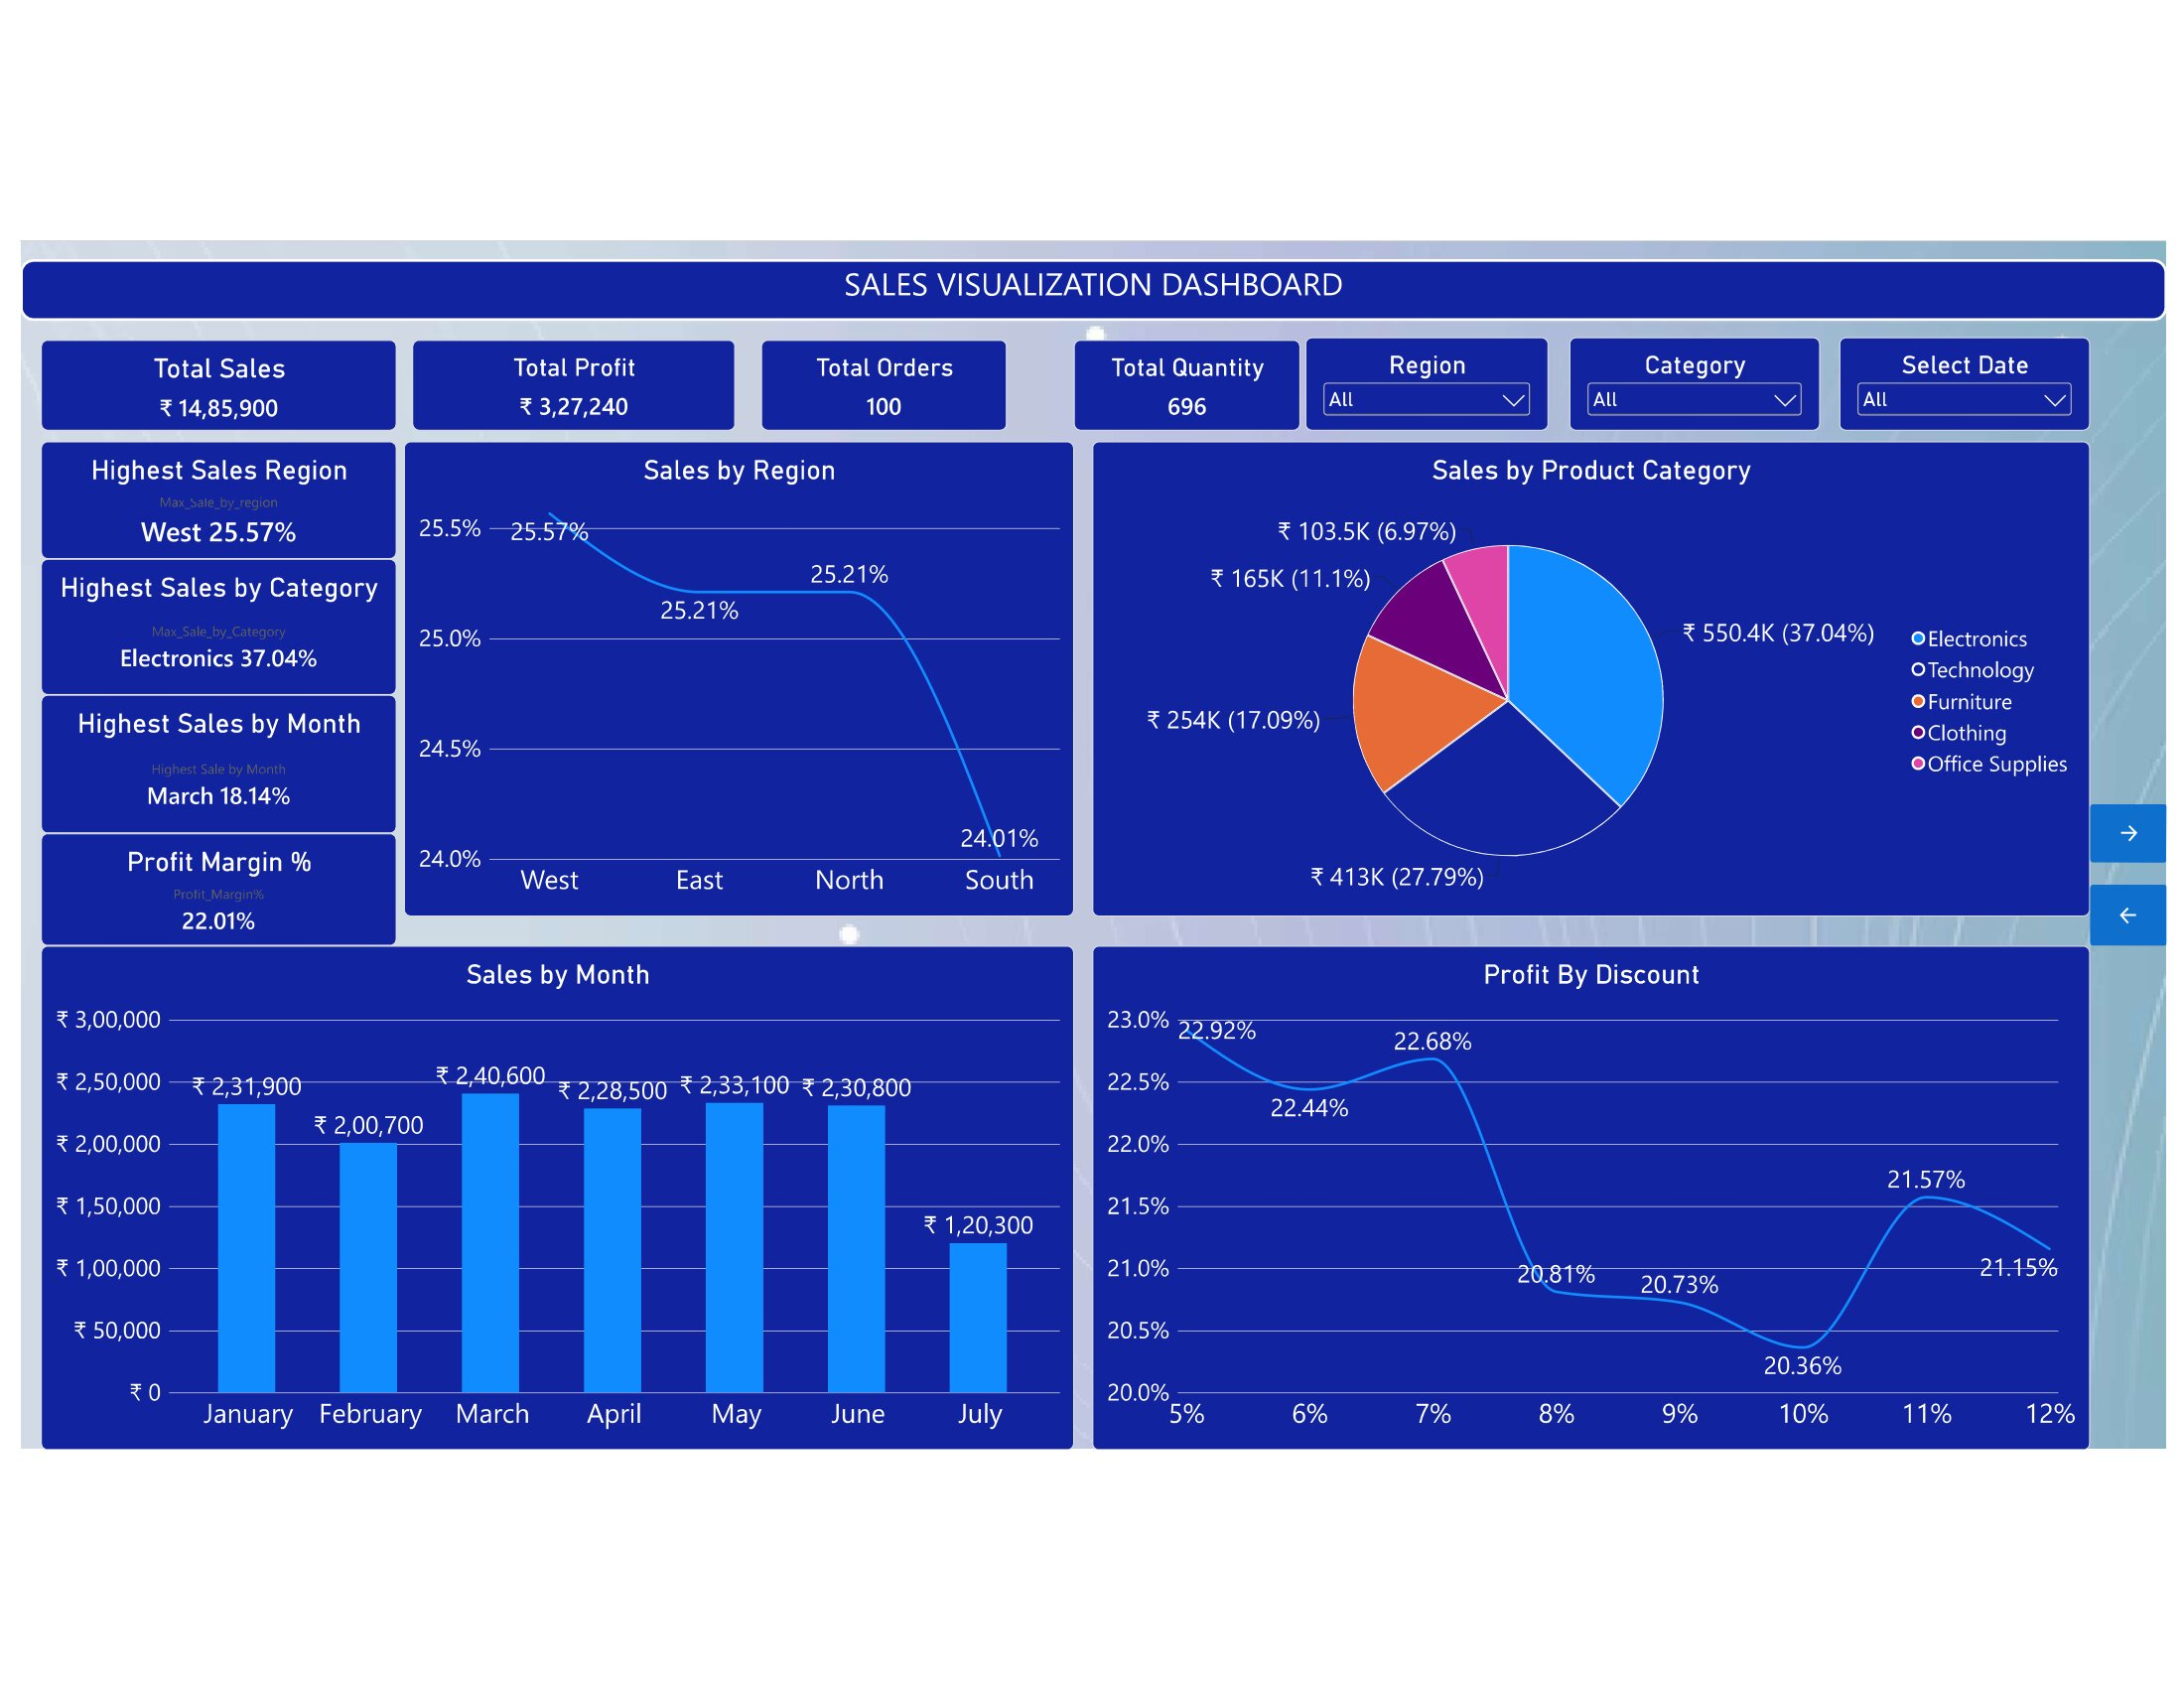

What the dashboard file says about the page in this screenshot:
{"tool":"powerbi","page":{"name":" Sub_Page2","canvas":[2560,1440],"ordinal":1},"visuals":[{"type":"textbox","box":[0,22.3,2560.9,73.2],"z":0},{"type":"kpi","title":"Total Sales","fields":{"Indicator":["Sum(Superstore Sales.Sales)"],"TrendLine":["Superstore Sales.OrderDate.Variation.Date Hierarchy.Year"]},"box":[25.4,117.7,423.1,108.2],"z":1000},{"type":"kpi","title":"Total Profit","fields":{"Indicator":["Sum(Superstore Sales.Profit)"],"TrendLine":["Superstore Sales.OrderDate.Variation.Date Hierarchy.Year"]},"box":[467.6,117.7,384.9,108.2],"z":2000},{"type":"kpi","title":"Total Orders","fields":{"Indicator":["CountNonNull(Superstore Sales.OrderID)"],"TrendLine":["Superstore Sales.OrderDate.Variation.Date Hierarchy.Year"]},"box":[884.4,117.7,292.7,108.2],"z":3000},{"type":"slicer","title":"Region","fields":{"Values":["Superstore Sales.Region"]},"box":[1533.3,114.5,289.5,111.3],"z":4000},{"type":"slicer","title":"Category","fields":{"Values":["Superstore Sales.Product Category"]},"box":[1848.3,114.5,299,111.3],"z":5000},{"type":"slicer","title":"Select Date","fields":{"Values":["Superstore Sales.OrderDate.Variation.Date Hierarchy.Year","Superstore Sales.OrderDate.Variation.Date Hierarchy.Month","Superstore Sales.OrderDate.Variation.Date Hierarchy.Day"]},"box":[2169.6,114.5,299,111.3],"z":6000},{"type":"pieChart","title":"Sales by Product Category","fields":{"Category":["Superstore Sales.Product Category"],"Y":["Sum(Superstore Sales.Sales)"]},"box":[1278.9,238.6,1189.8,566.3],"z":7000},{"type":"cardVisual","title":"Highest Sales Region","fields":{"Data":["Superstore Sales.Max_Sale_by_region"]},"box":[25.4,238.6,423.1,140],"z":8000},{"type":"lineChart","title":"Sales by Region","fields":{"Category":["Superstore Sales.Region"],"Y":["Sum(Superstore Sales.Sales)"]},"box":[458.1,238.6,798.5,566.3],"z":9000},{"type":"cardVisual","title":"Highest Sales by Category","fields":{"Data":["Superstore Sales.Max_Sale_by_Category"]},"box":[25.4,378.6,423.1,162.2],"z":10000},{"type":"columnChart","title":" Sales by Month","fields":{"Category":["Superstore Sales.OrderDate.Variation.Date Hierarchy.Month"],"Y":["Sum(Superstore Sales.Sales)"]},"box":[25.4,839.8,1231.1,601.3],"z":11000},{"type":"cardVisual","title":"Highest Sales by Month","fields":{"Data":["Superstore Sales.Highest Sale by Month"]},"box":[25.4,540.8,423.1,165.4],"z":12000},{"type":"lineChart","title":"Profit By Discount","fields":{"Category":["Superstore Sales.Discount"],"Y":["Superstore Sales.Profit_Margin%"]},"box":[1278.9,839.8,1189.8,601.3],"z":13000},{"type":"actionButton","box":[2468.6,766.7,92.3,73.2],"z":14000},{"type":"actionButton","box":[2468.6,671.2,92.3,70],"z":14001},{"type":"kpi","title":"Total Quantity","fields":{"Indicator":["Sum(Superstore Sales.Quantity)"],"TrendLine":["Superstore Sales.OrderDate.Variation.Date Hierarchy.Year"]},"box":[1256.6,117.7,270.4,108.2],"z":14002},{"type":"cardVisual","title":"Profit Margin %","fields":{"Data":["Superstore Sales.Profit_Margin%"]},"box":[25.4,706.2,423.1,133.6],"z":14003}]}

Visuals, with their boxes in screenshot pixels (x1, y1, x2, y2):
textbox: 11,252,2166,314
"Total Sales" kpi: 33,333,389,423
"Total Profit" kpi: 405,333,729,423
"Total Orders" kpi: 755,333,1002,423
"Region" slicer: 1301,330,1545,423
"Category" slicer: 1567,330,1818,423
"Select Date" slicer: 1837,330,2089,423
"Sales by Product Category" pieChart: 1087,434,2089,911
"Highest Sales Region" cardVisual: 33,434,389,552
"Sales by Region" lineChart: 397,434,1068,911
"Highest Sales by Category" cardVisual: 33,552,389,688
" Sales by Month" columnChart: 33,940,1068,1446
"Highest Sales by Month" cardVisual: 33,688,389,827
"Profit By Discount" lineChart: 1087,940,2089,1446
actionButton: 2089,879,2166,940
actionButton: 2089,798,2166,857
"Total Quantity" kpi: 1068,333,1297,423
"Profit Margin %" cardVisual: 33,827,389,940
